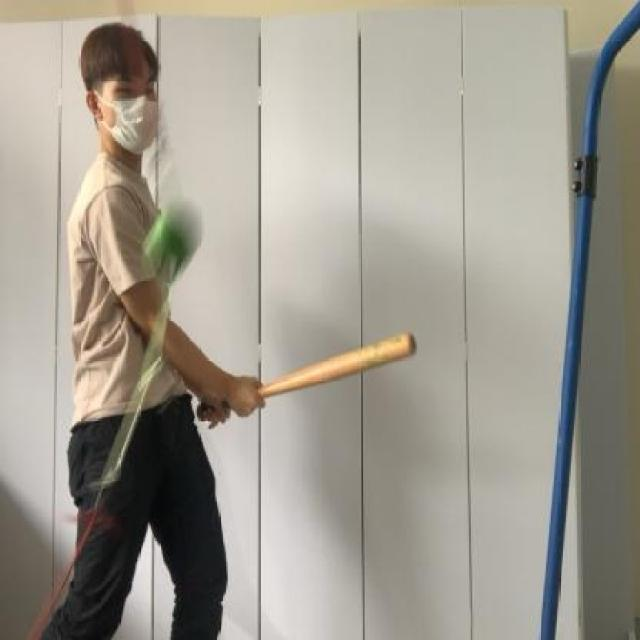baseball: (141, 190, 208, 281)
